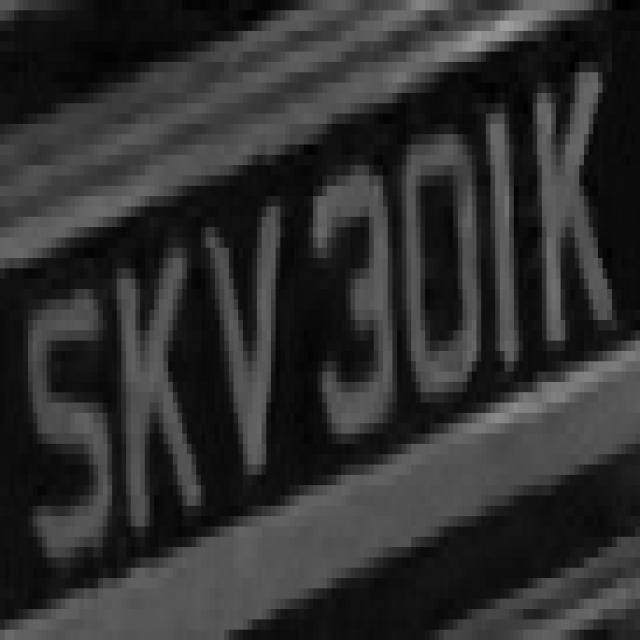0: (383, 124, 491, 423)
1: (477, 72, 523, 434)
3: (290, 144, 392, 433)
K: (532, 0, 622, 423), (112, 186, 196, 557)
S: (10, 258, 121, 557)
V: (196, 186, 294, 516)
